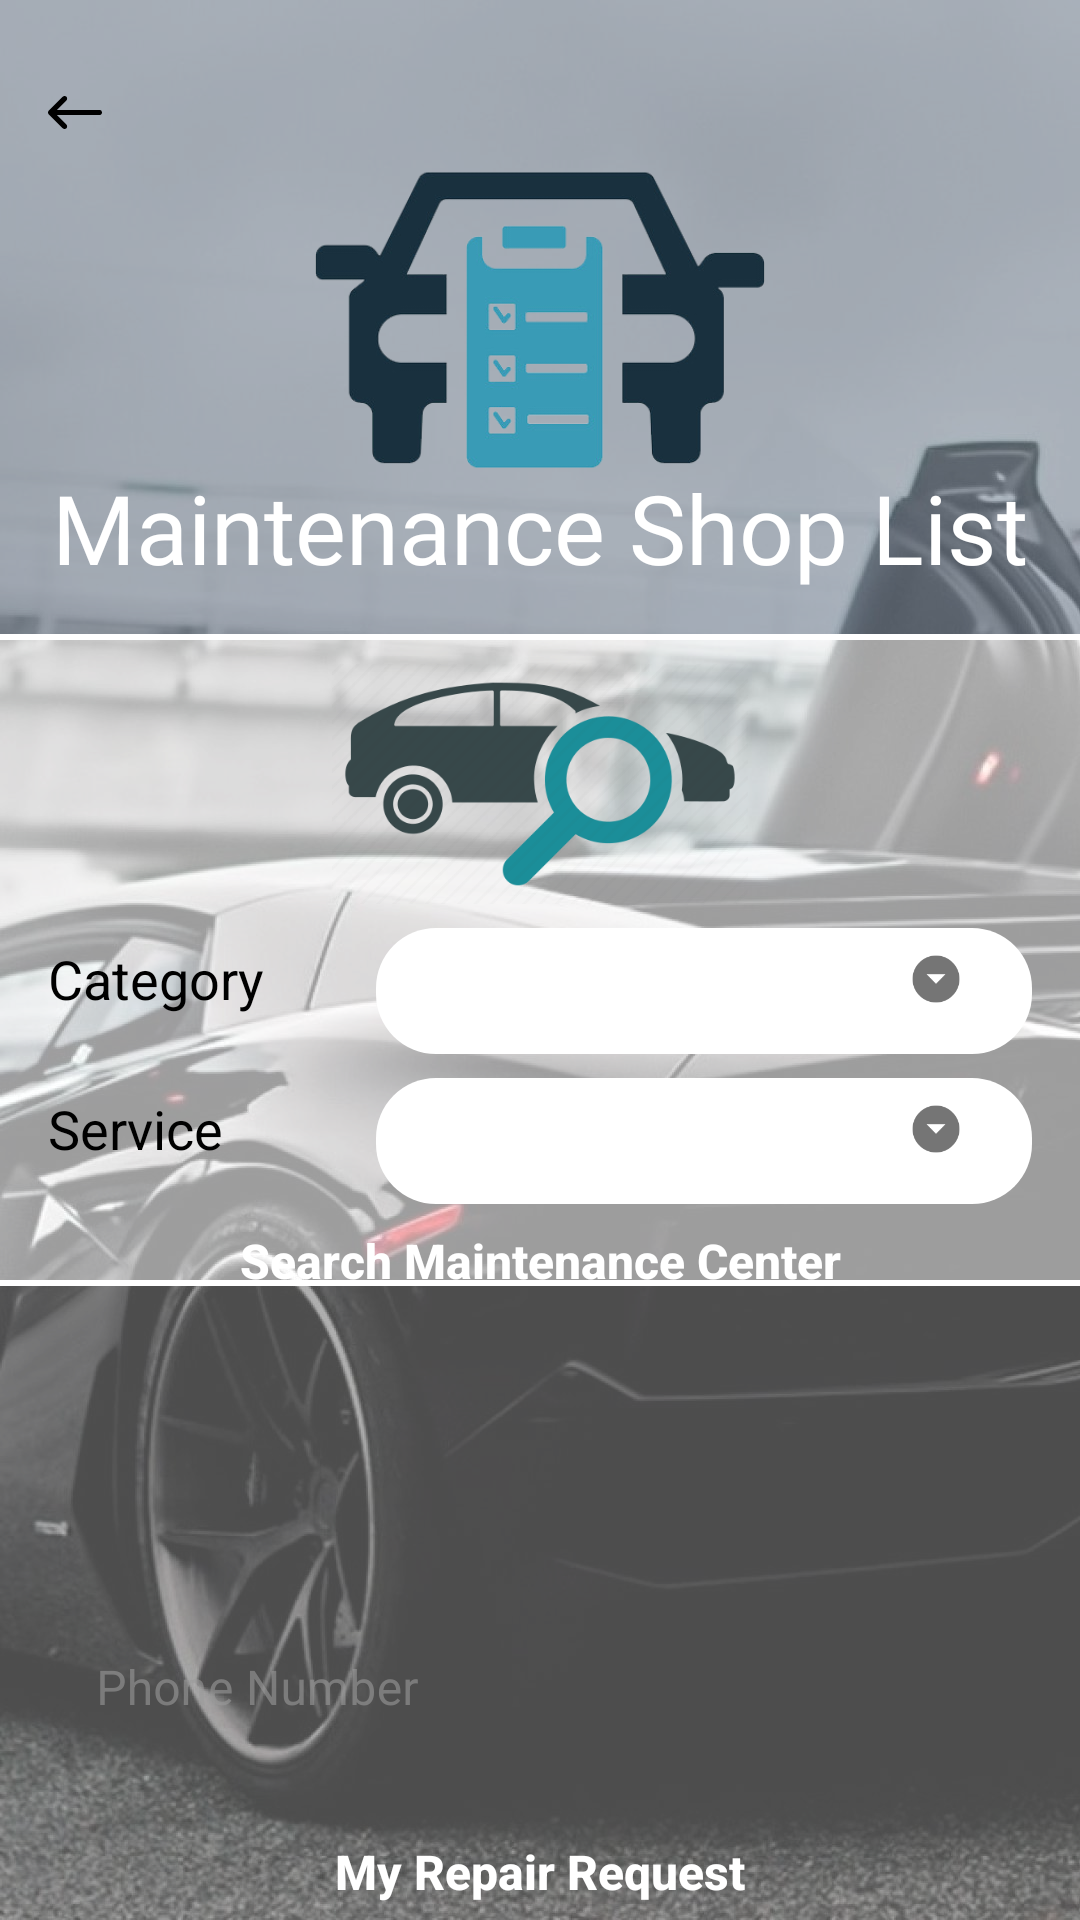

Where icons sit on this 1080 x 1920 app screen, as [x1, y1, x2, y2]:
back: [48, 96, 102, 129]
